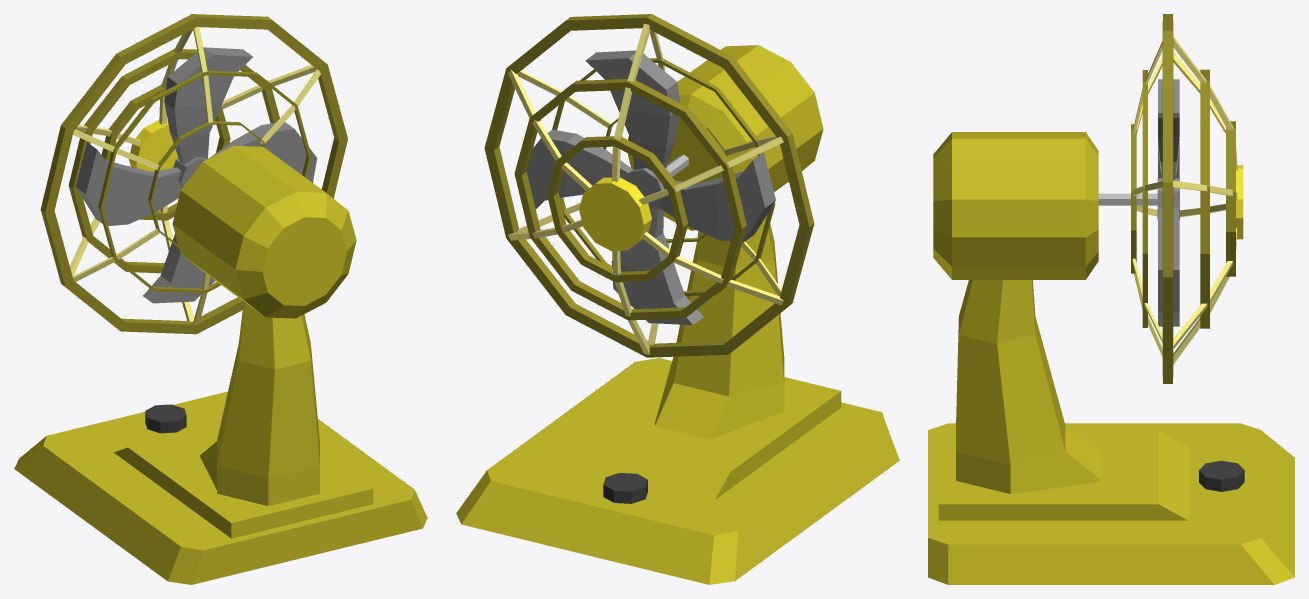
File: ventilador.fbx
The picture shows the model from 3 angles, left to right: view 1: azimuth 30°, elevation 25°; view 2: azimuth 150°, elevation 25°; view 3: azimuth 270°, elevation 25°; orthographic projection. The views are drawn at different scales.
Parts seen in each view (by area): view 1: Ventilador; view 2: Ventilador; view 3: Ventilador.
Boxes of the visible parts, x1,y1,x2,y2 form: Ventilador: (14,14,427,584); Ventilador: (456,14,899,584); Ventilador: (928,14,1294,584).
Size of the model in its own units: 100 by 145 by 98.76.
